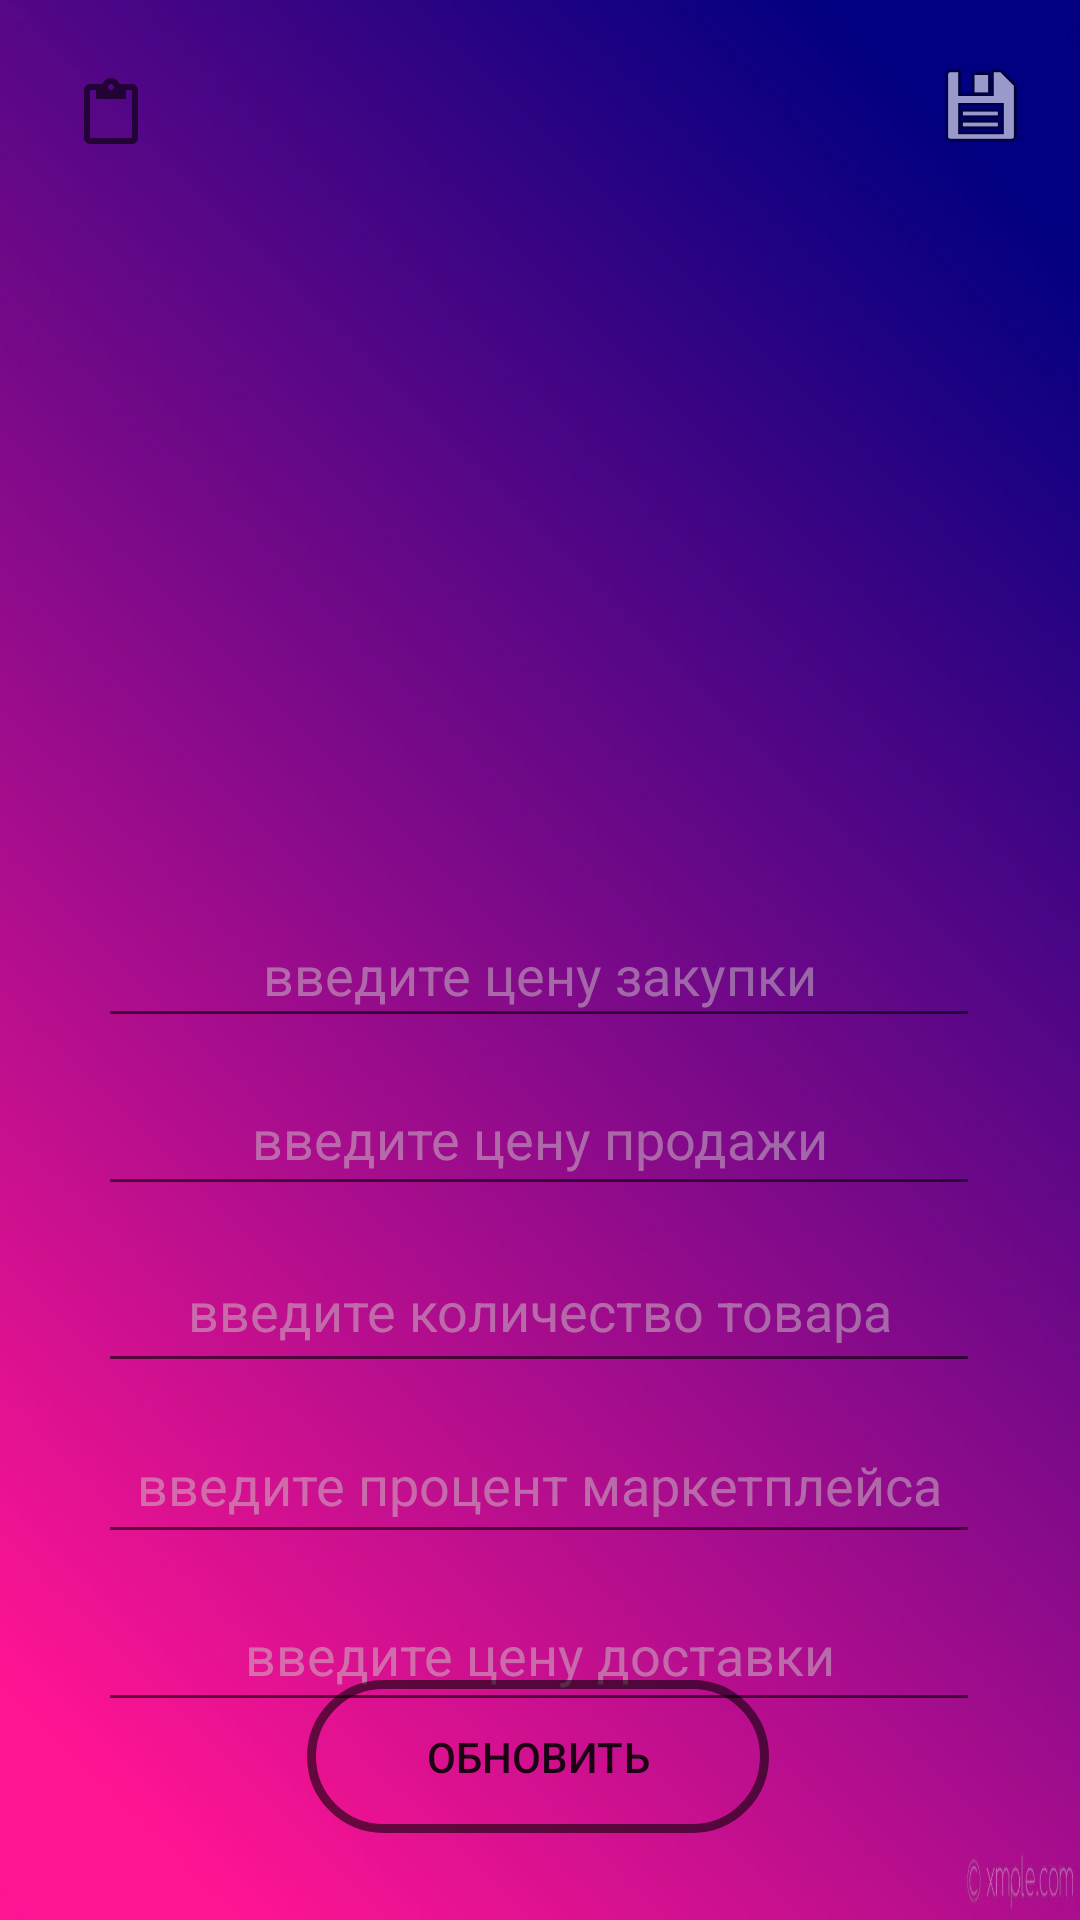

Locate icon controls on the screen. Image size 1080×1920, boxes as (x1, y1, x2, y2).
save: (945, 69, 1017, 142)
